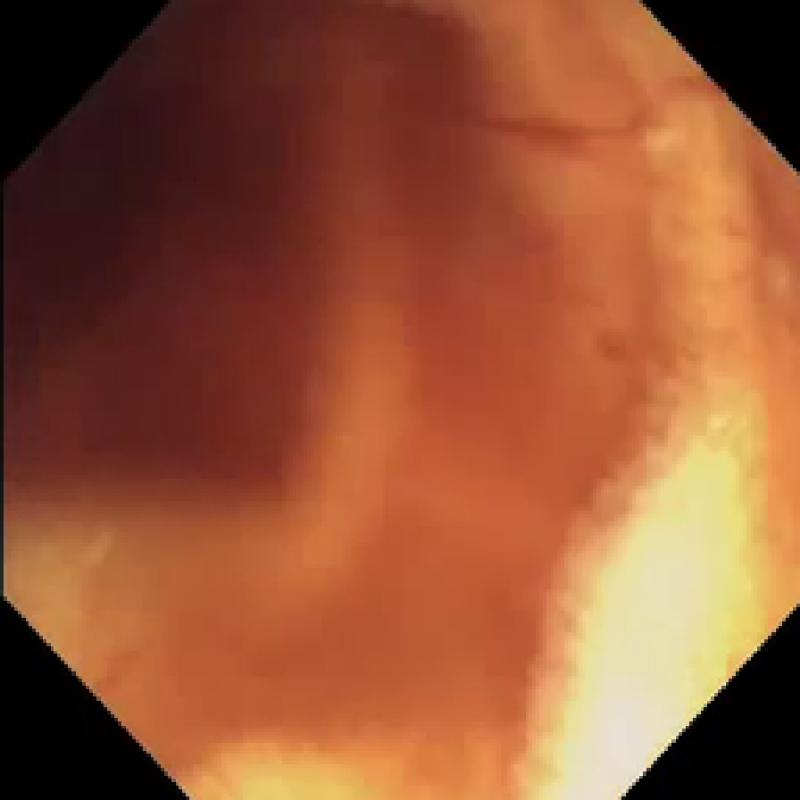bleeding: (0, 0, 496, 503), (508, 94, 694, 188)
